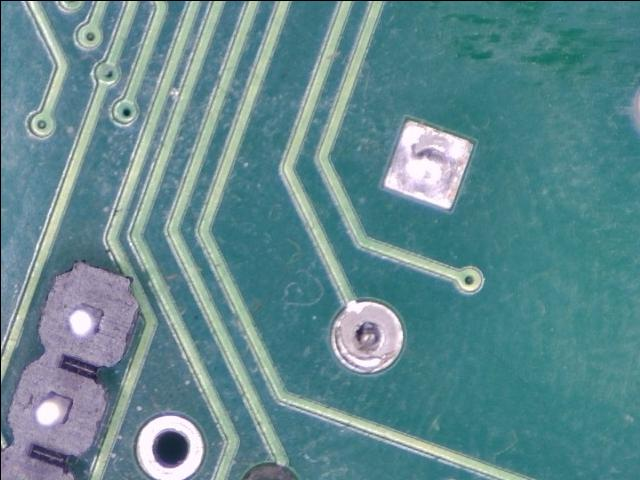Dry_joint: (331, 301, 404, 374)
